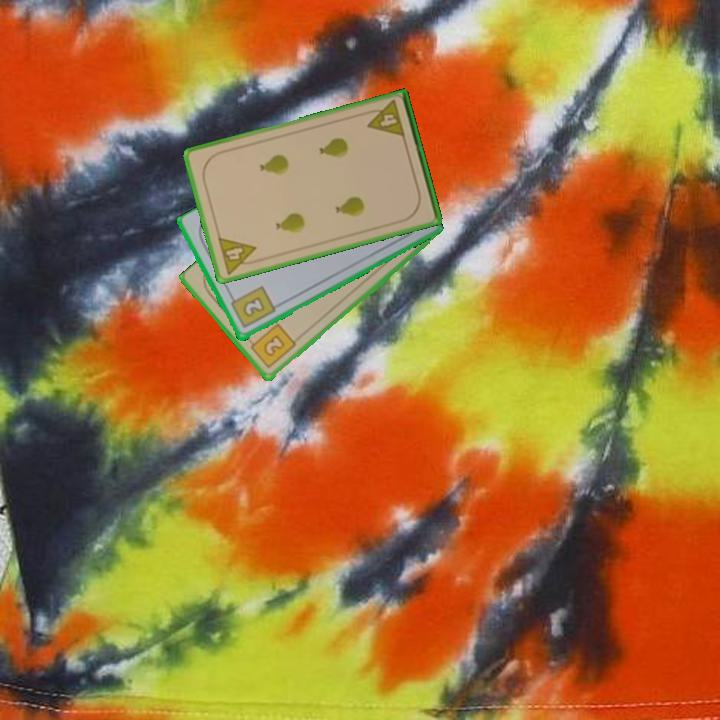2b: (244, 320, 299, 371), (226, 283, 278, 331)
4p: (214, 233, 262, 277), (361, 97, 407, 140)
